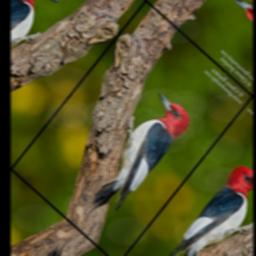Woodpecker: (65, 82, 197, 233)
